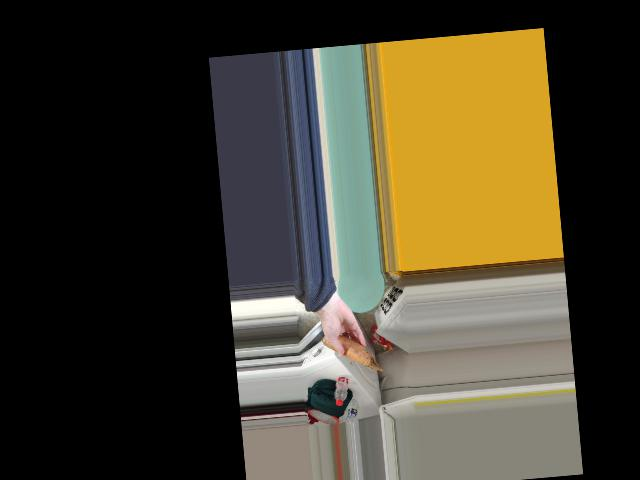sweet_potato: (323, 327, 362, 361)
